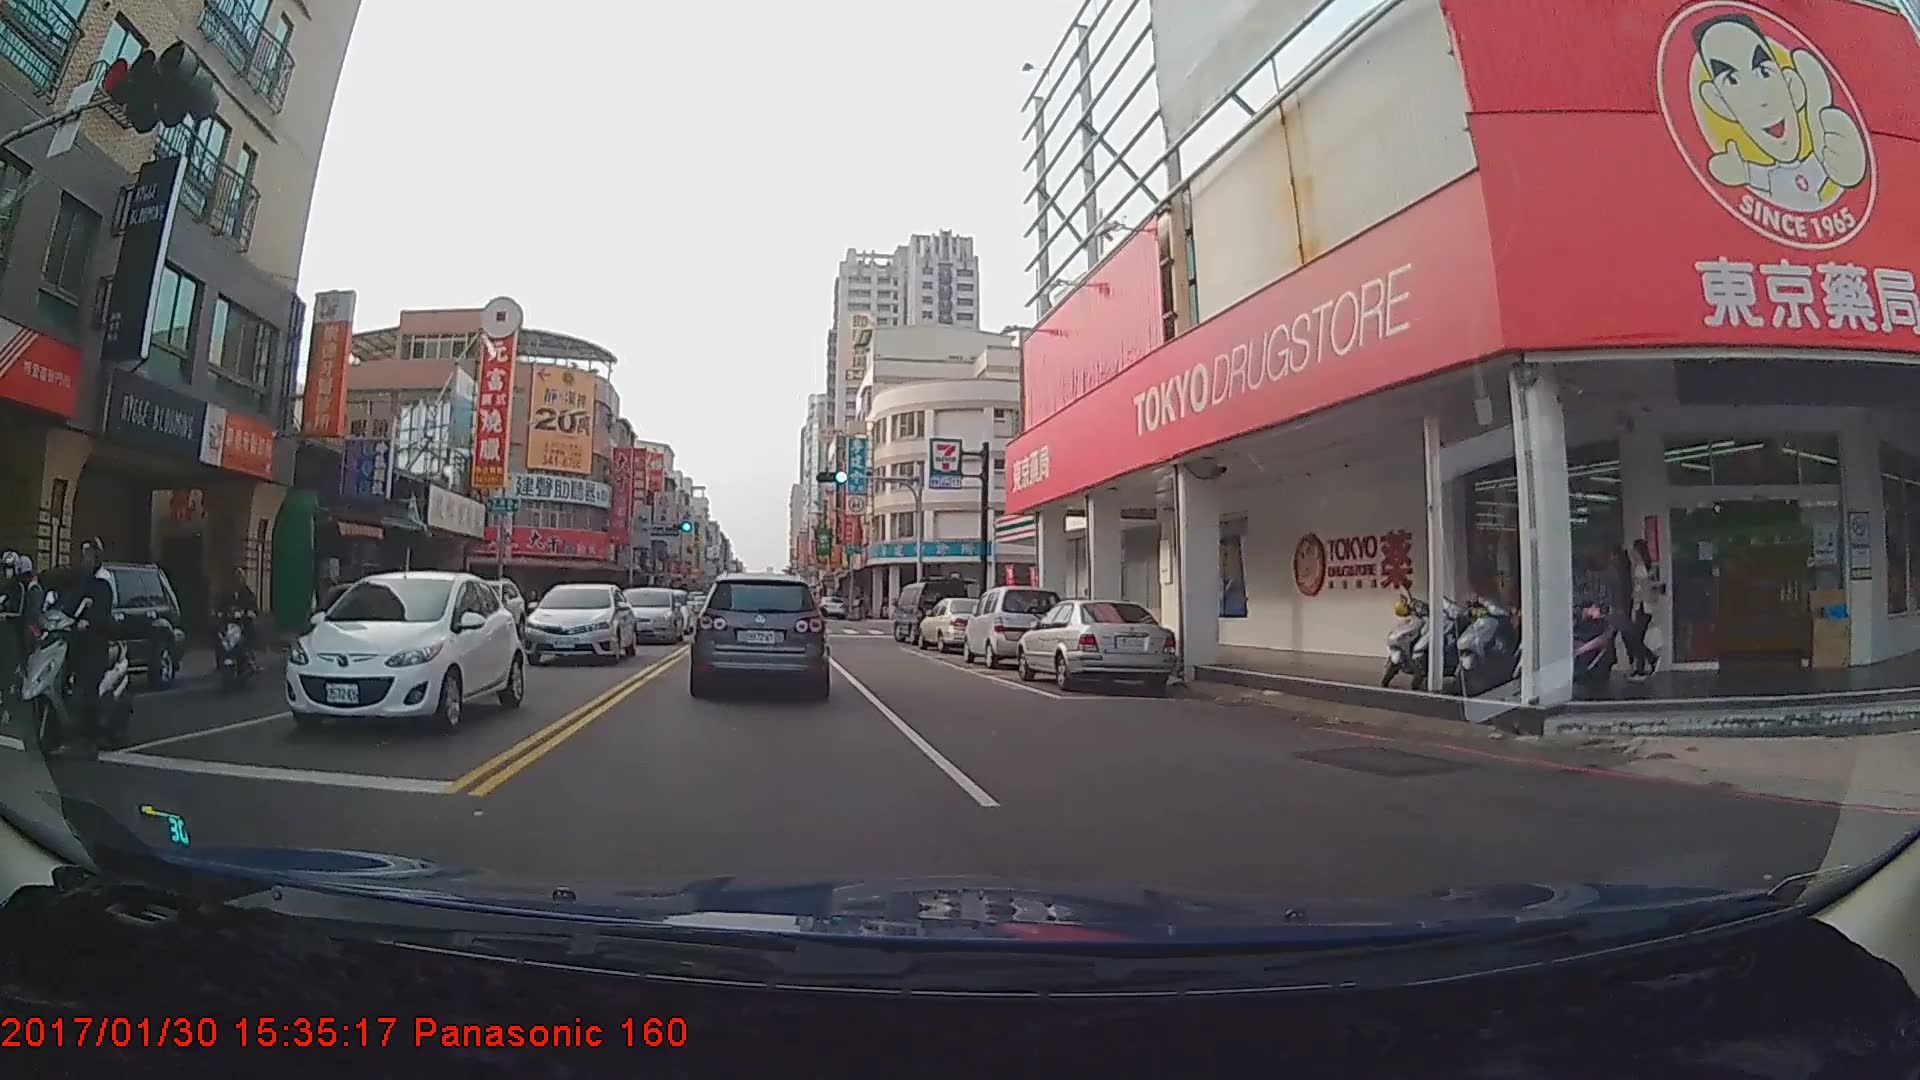pedestrian: (1597, 545, 1644, 678), (1624, 539, 1665, 682)
rider: (34, 541, 142, 755), (209, 565, 269, 694)
vehicle: (266, 569, 512, 740), (0, 561, 182, 695), (694, 573, 827, 699), (1014, 596, 1176, 698), (521, 583, 637, 666), (964, 588, 1062, 671), (890, 579, 968, 646), (915, 599, 997, 653), (608, 587, 681, 646), (816, 594, 845, 619)
